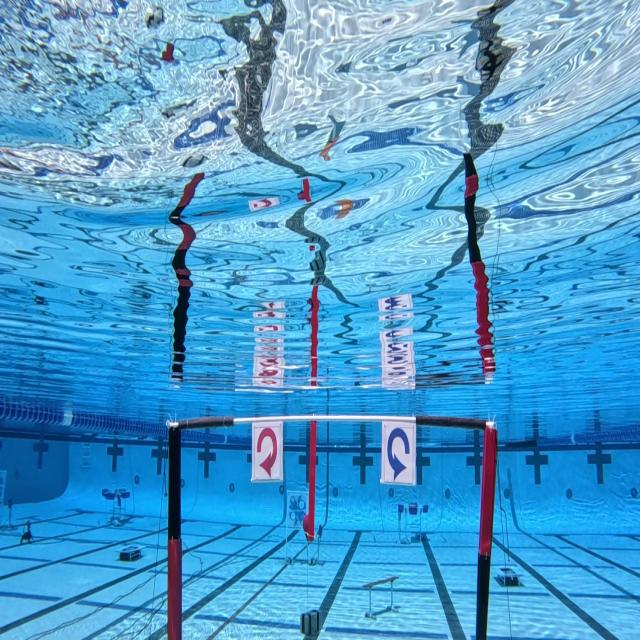blue_side: (379, 416, 417, 491)
red_side: (248, 418, 285, 487)
